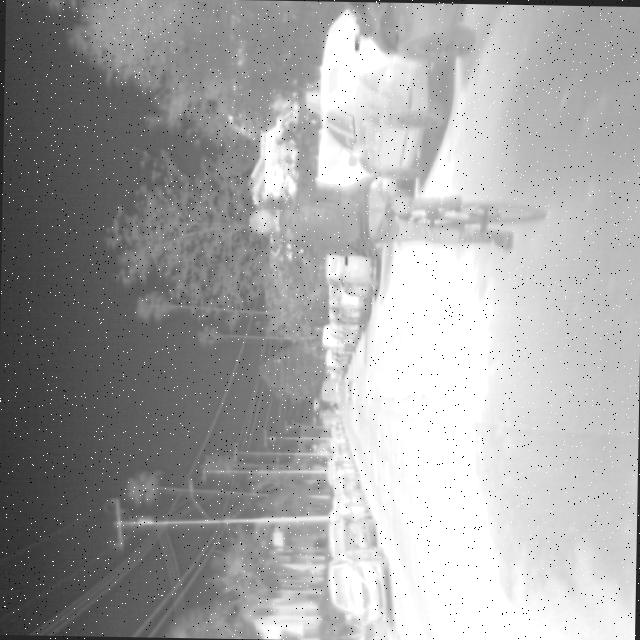Pedestrian: (242, 170, 550, 264)
Vehicle: (314, 7, 449, 180), (323, 544, 392, 626), (322, 251, 381, 298)
